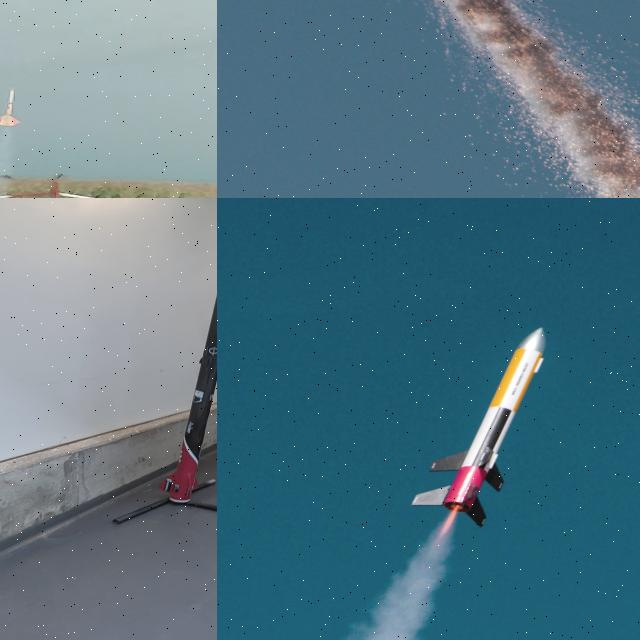Rocket: (409, 325, 548, 529), (158, 292, 217, 503), (0, 86, 22, 127)
